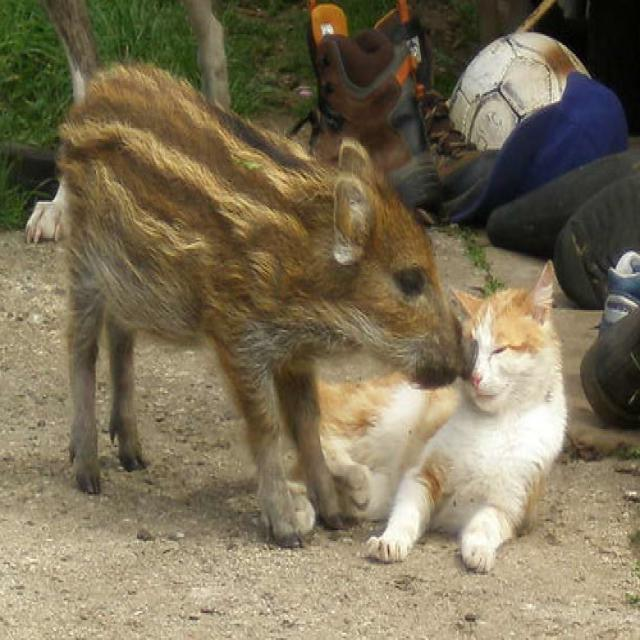boar: (34, 44, 472, 568)
